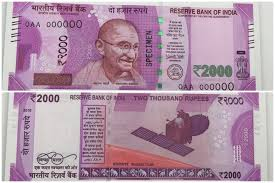twoThousand: (24, 13, 242, 83)
